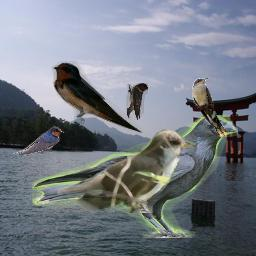Crow: (32, 115, 238, 238)
Cuckoo: (57, 129, 195, 213), (192, 78, 227, 137)
Swallow: (51, 61, 143, 134), (11, 126, 64, 156), (126, 83, 148, 120)
